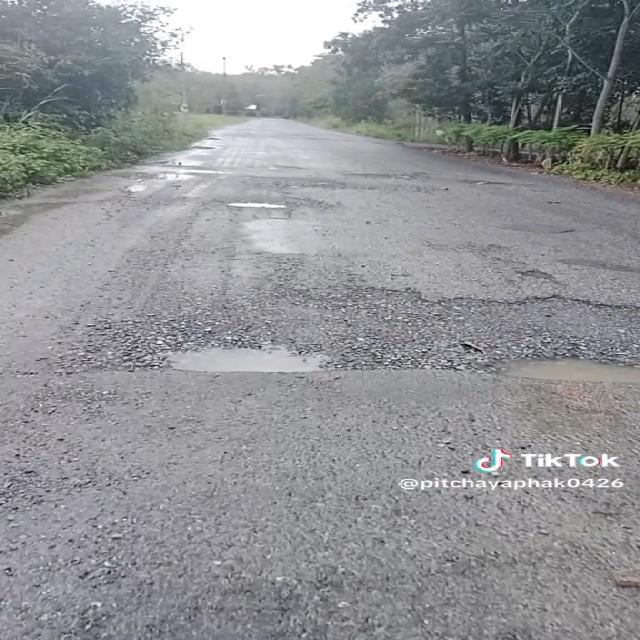Poth-hole: (106, 289, 404, 432)
